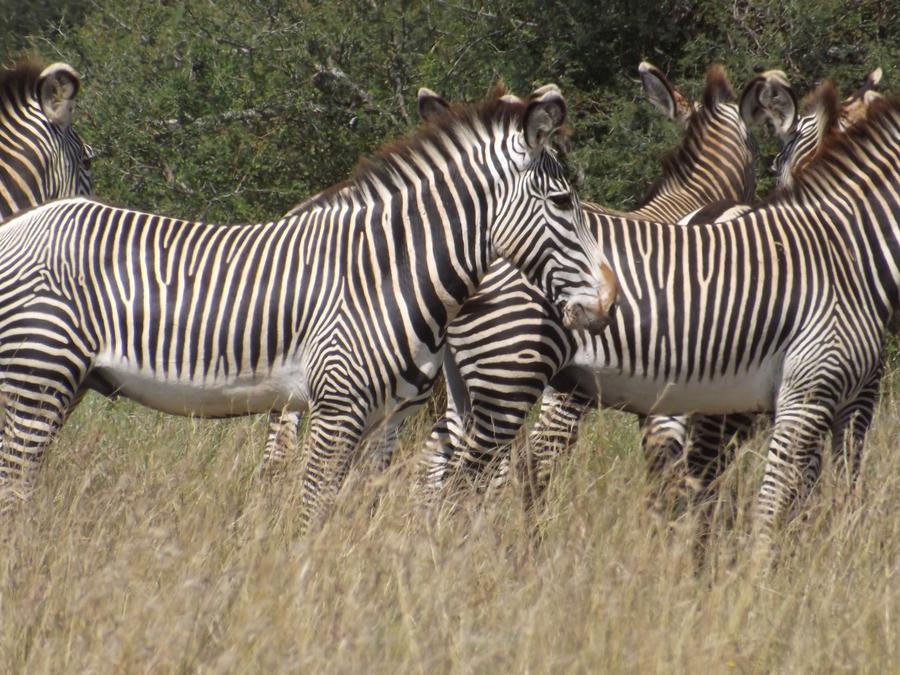zebra_grevys: (4, 173, 379, 422)
